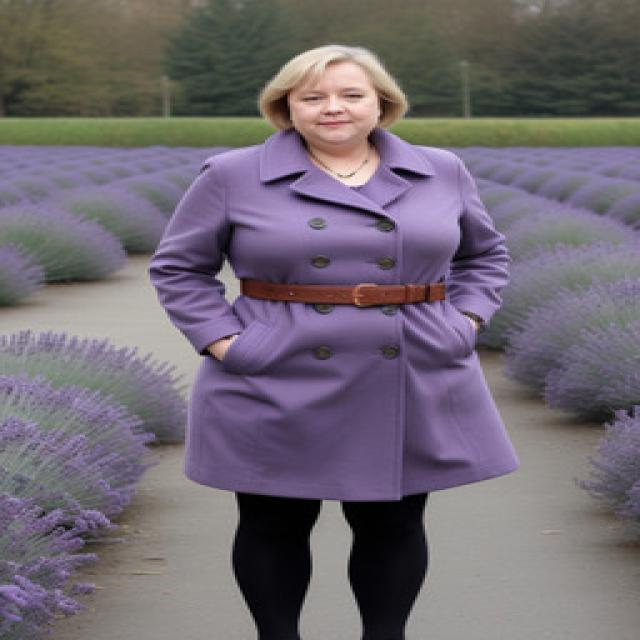Ai human 2: (139, 31, 542, 640)
